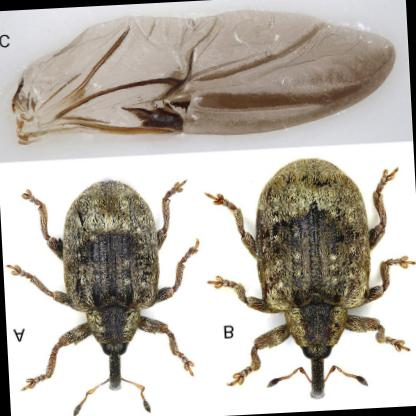ash weevil: (213, 159, 404, 398), (7, 179, 192, 416)
